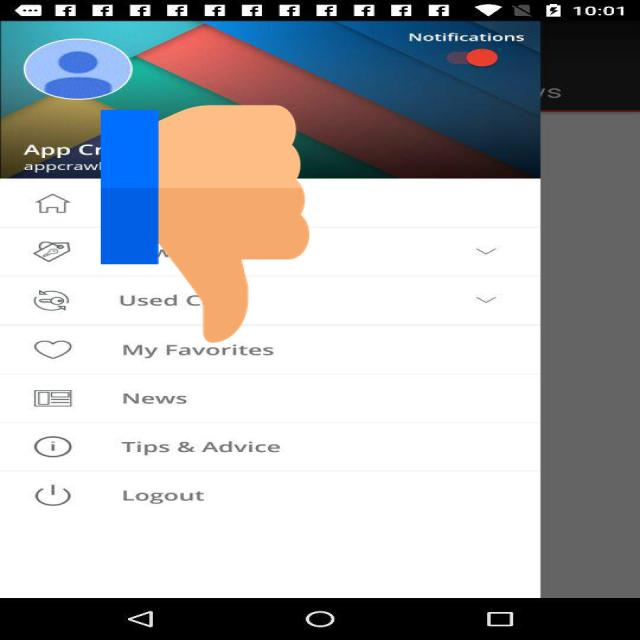obstruction: (101, 99, 309, 349)
